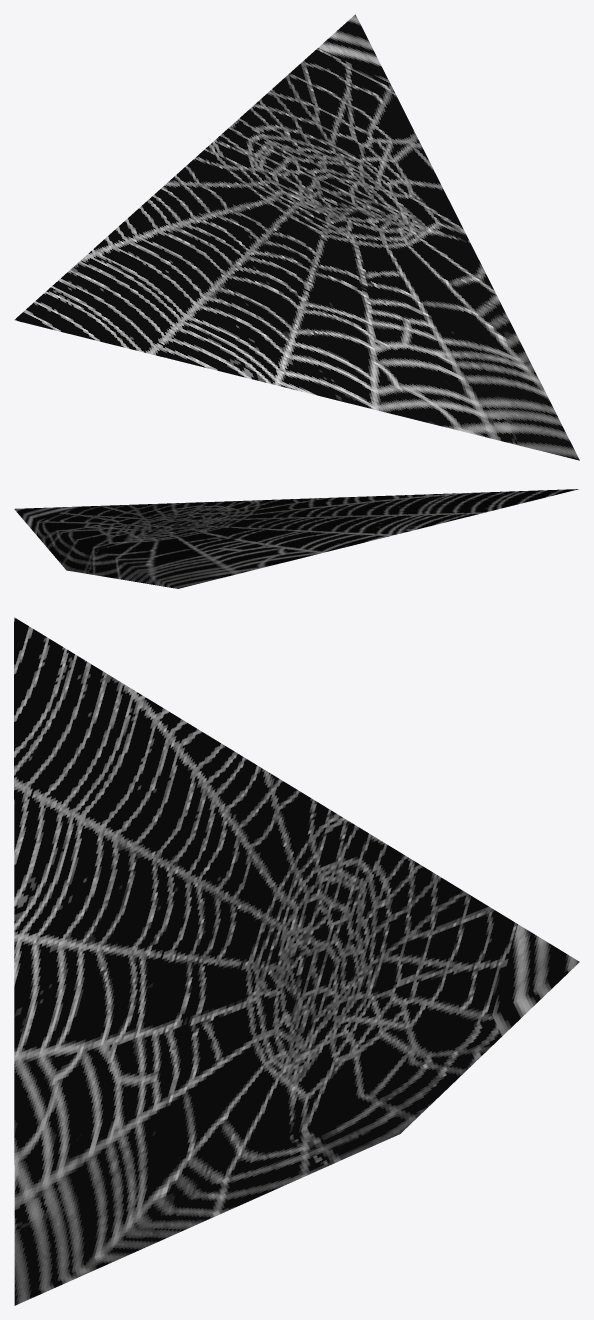
The model's file is SM_Web.fbx.
3 views of the same model, one above another, from view 1: azimuth 30°, elevation 25°; view 2: azimuth 150°, elevation 25°; view 3: azimuth 270°, elevation 25° (orthographic). The views are drawn at different scales.
Visible parts, largest first — view 1: SM_Cobweb; view 2: SM_Cobweb; view 3: SM_Cobweb.
Part boxes in pixels (x1,y1,x2,y2): SM_Cobweb: [14, 14, 579, 460]; SM_Cobweb: [14, 489, 578, 588]; SM_Cobweb: [14, 617, 579, 1305].
Bounding box in the file's own units: 204 × 95.33 × 141.
